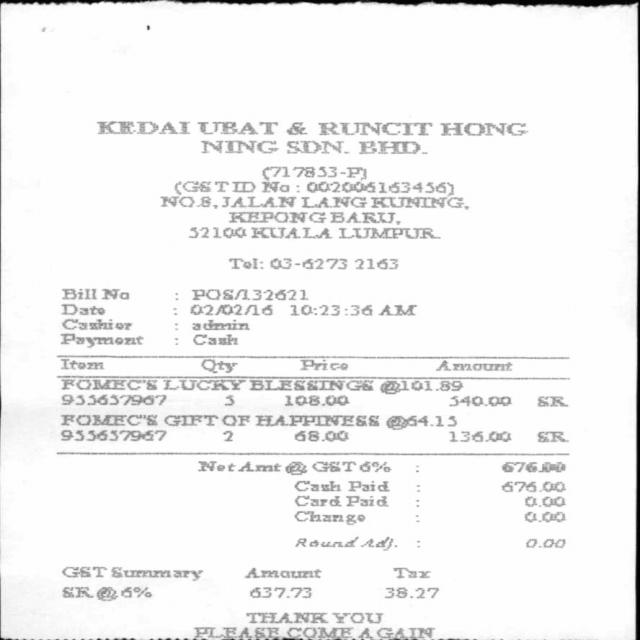text: (305, 180, 452, 196), (61, 391, 165, 410), (196, 460, 306, 475), (158, 196, 294, 208), (317, 121, 431, 135), (253, 414, 378, 426), (60, 427, 165, 441), (261, 166, 365, 180), (192, 624, 280, 640), (290, 509, 364, 527), (96, 120, 189, 134), (294, 536, 394, 549), (369, 196, 467, 209), (191, 289, 306, 300), (247, 380, 372, 390), (439, 122, 527, 136), (379, 379, 461, 394), (109, 567, 202, 580), (227, 211, 324, 223), (60, 414, 156, 426), (195, 120, 277, 134), (60, 333, 142, 347), (337, 227, 439, 238), (182, 179, 253, 194), (61, 378, 156, 389), (188, 303, 271, 315), (201, 140, 277, 153), (358, 626, 434, 639), (385, 416, 455, 430), (250, 226, 331, 238), (290, 304, 371, 316), (294, 428, 348, 446), (288, 625, 352, 640), (243, 566, 320, 578), (329, 211, 399, 224), (162, 379, 244, 390), (357, 140, 426, 153), (245, 612, 326, 623), (310, 461, 390, 472), (299, 195, 366, 208), (296, 358, 346, 375), (269, 258, 346, 269), (435, 359, 511, 370), (285, 140, 347, 153), (60, 302, 104, 320), (61, 318, 130, 329), (61, 288, 128, 299), (282, 394, 348, 405), (500, 461, 564, 472), (500, 481, 564, 492), (187, 226, 245, 238), (448, 395, 511, 406), (448, 431, 511, 442), (198, 356, 236, 374), (249, 587, 310, 598), (165, 414, 218, 426), (191, 319, 248, 330), (384, 587, 438, 598), (330, 612, 382, 623), (294, 494, 340, 506), (60, 566, 106, 578), (60, 358, 105, 370), (344, 494, 389, 506), (292, 480, 340, 491), (523, 536, 564, 548), (192, 334, 236, 345), (347, 480, 390, 491), (354, 258, 396, 269), (522, 511, 564, 522), (393, 566, 429, 578), (62, 586, 94, 599), (120, 586, 151, 599), (524, 496, 564, 506), (377, 305, 415, 315), (228, 257, 262, 268), (536, 395, 567, 406), (536, 431, 567, 442), (260, 181, 288, 192), (224, 414, 248, 426), (284, 122, 306, 134), (223, 394, 233, 405), (222, 430, 231, 441)
